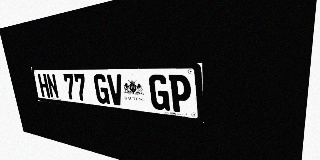7: (73, 74, 89, 102), (62, 74, 77, 101)
G: (148, 74, 170, 111), (93, 74, 110, 104)
H: (37, 74, 50, 98)
N: (46, 74, 59, 99)
P: (168, 75, 192, 114)
V: (107, 74, 125, 106)
